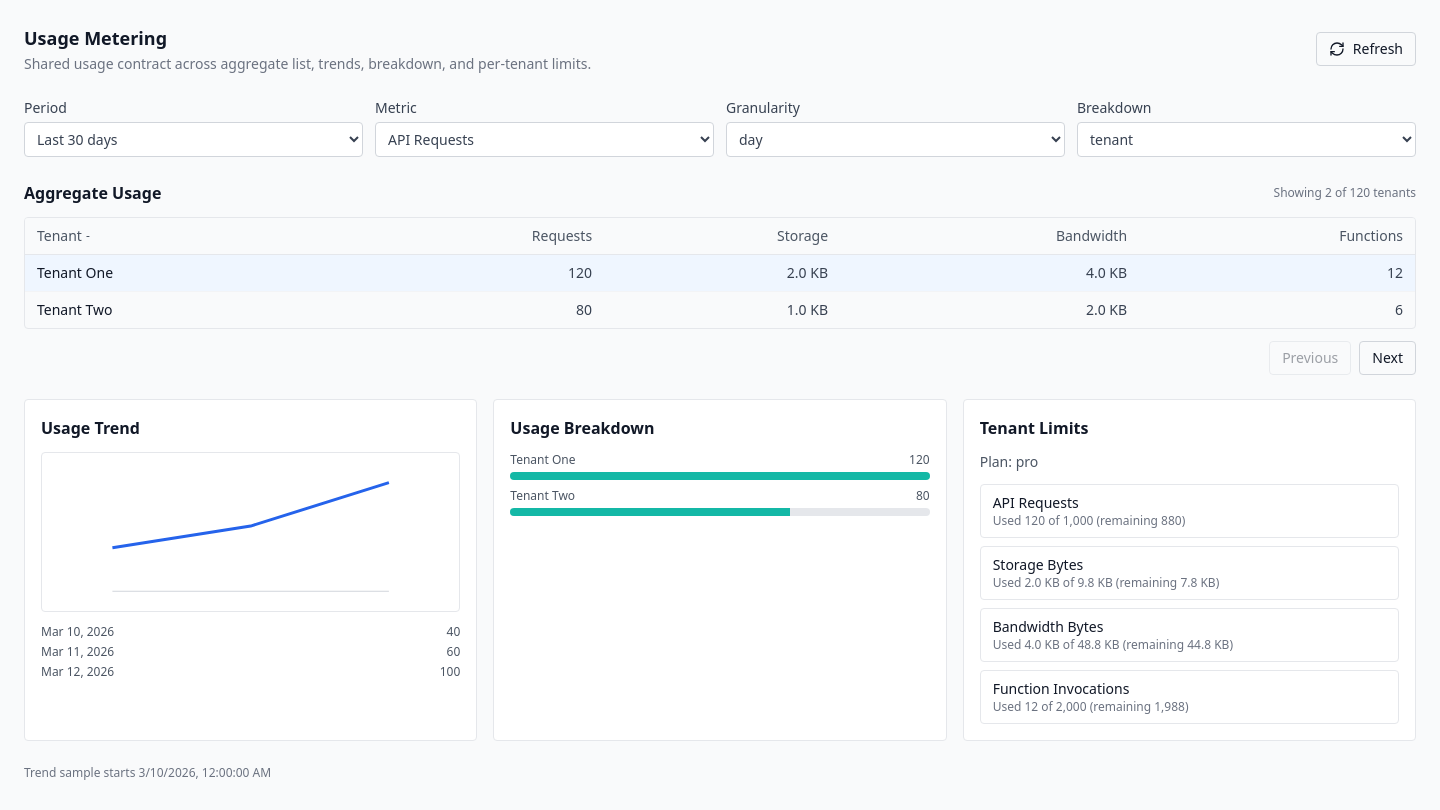
Test case: UsageMetering › renders distinct hour labels for hourly api request trends
Select "hour" in the dropdown labelled "Granularity". click: (896, 140)
box: left=726, top=122, right=1065, bottom=157
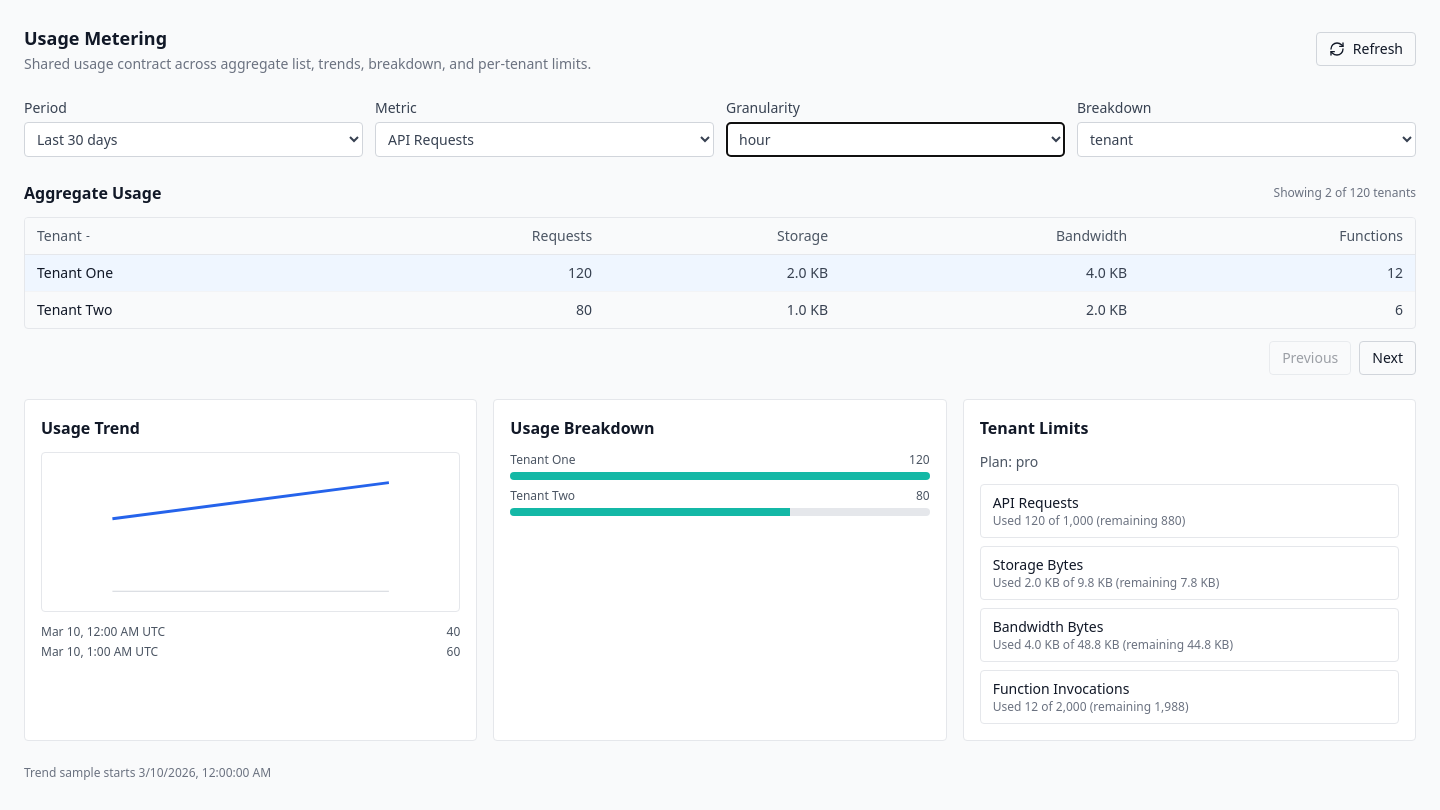
Check: the text "Mar 10, 12:00 AM UTC" is shown, box left=41, top=624, right=165, bottom=640
Check: the text "Mar 10, 1:00 AM UTC" is shown, box left=41, top=644, right=158, bottom=660
